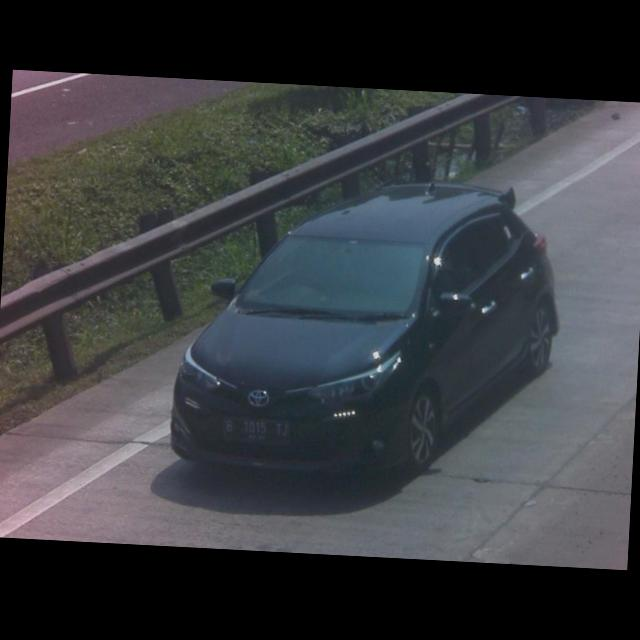plate: (220, 414, 296, 448)
